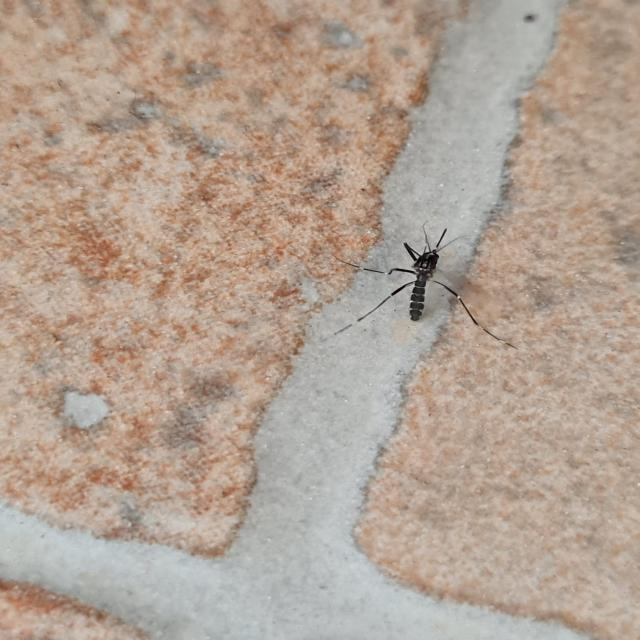albopictus: (330, 216, 521, 352)
